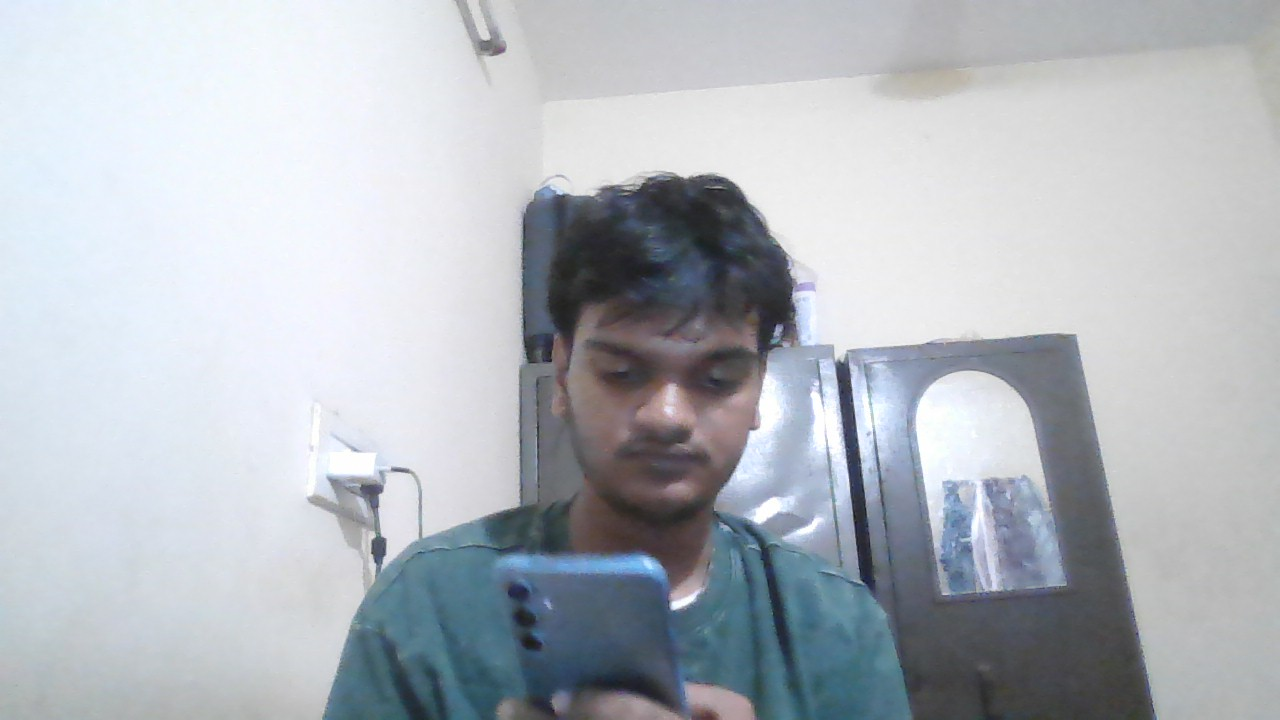phone: (499, 542, 672, 675)
